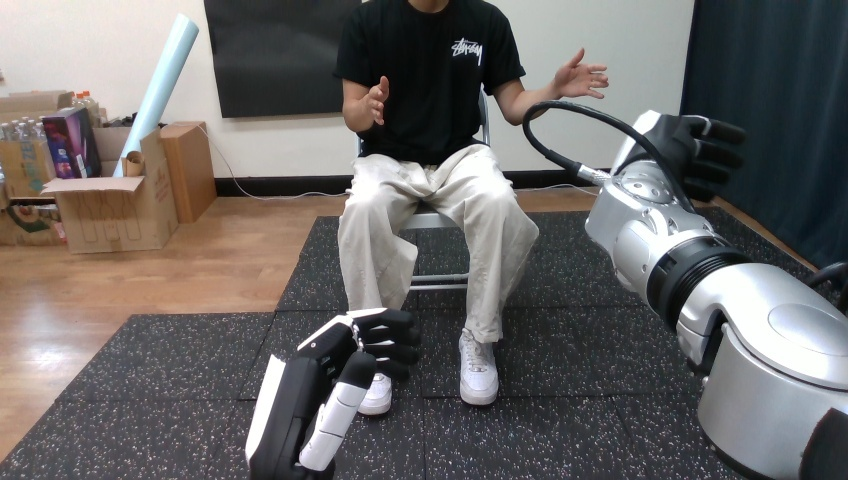left robot hand: (523, 101, 847, 478), (246, 308, 419, 478), (551, 48, 607, 98)
